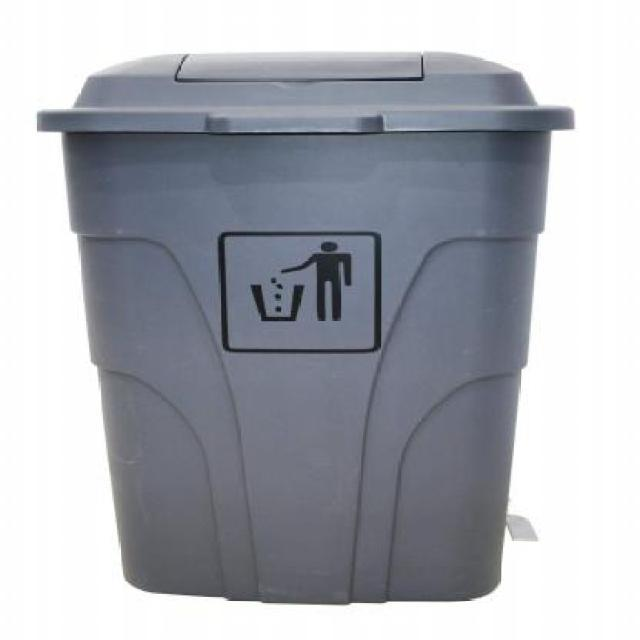garbage container: (29, 40, 589, 617)
